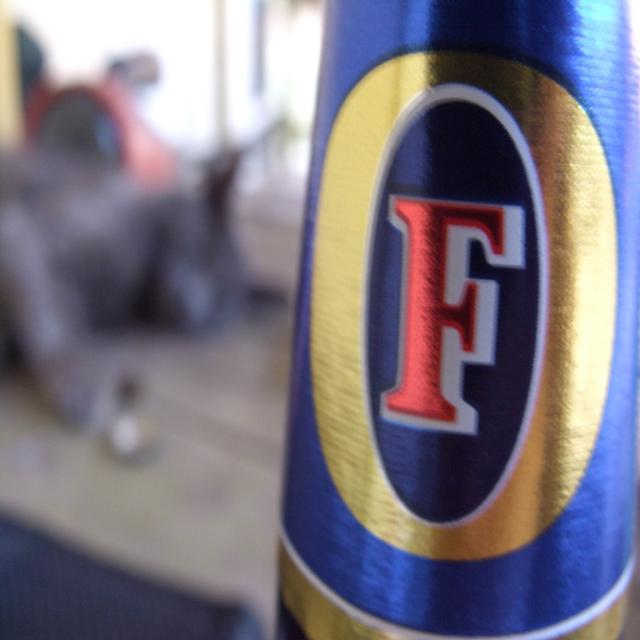fosters: (301, 44, 626, 574)
